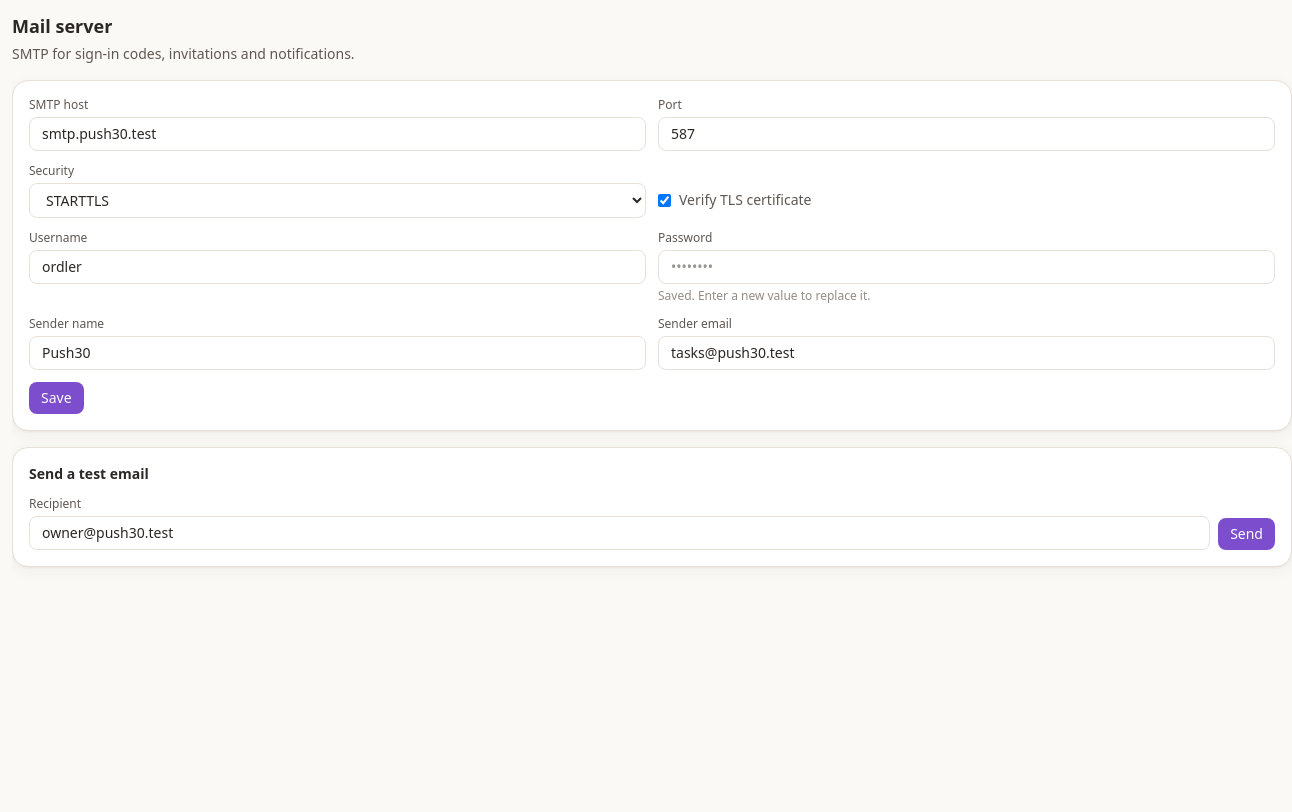
Test case: MailSection › sends a test email and shows the SMTP error when it fails
This screenshot has width=1292, height=812.
Expected: the field labelled "Recipient" holds "owner@push30.test", [29, 516, 1210, 550]
Click the button "Send": point(1247, 534) [1218, 518, 1275, 550]
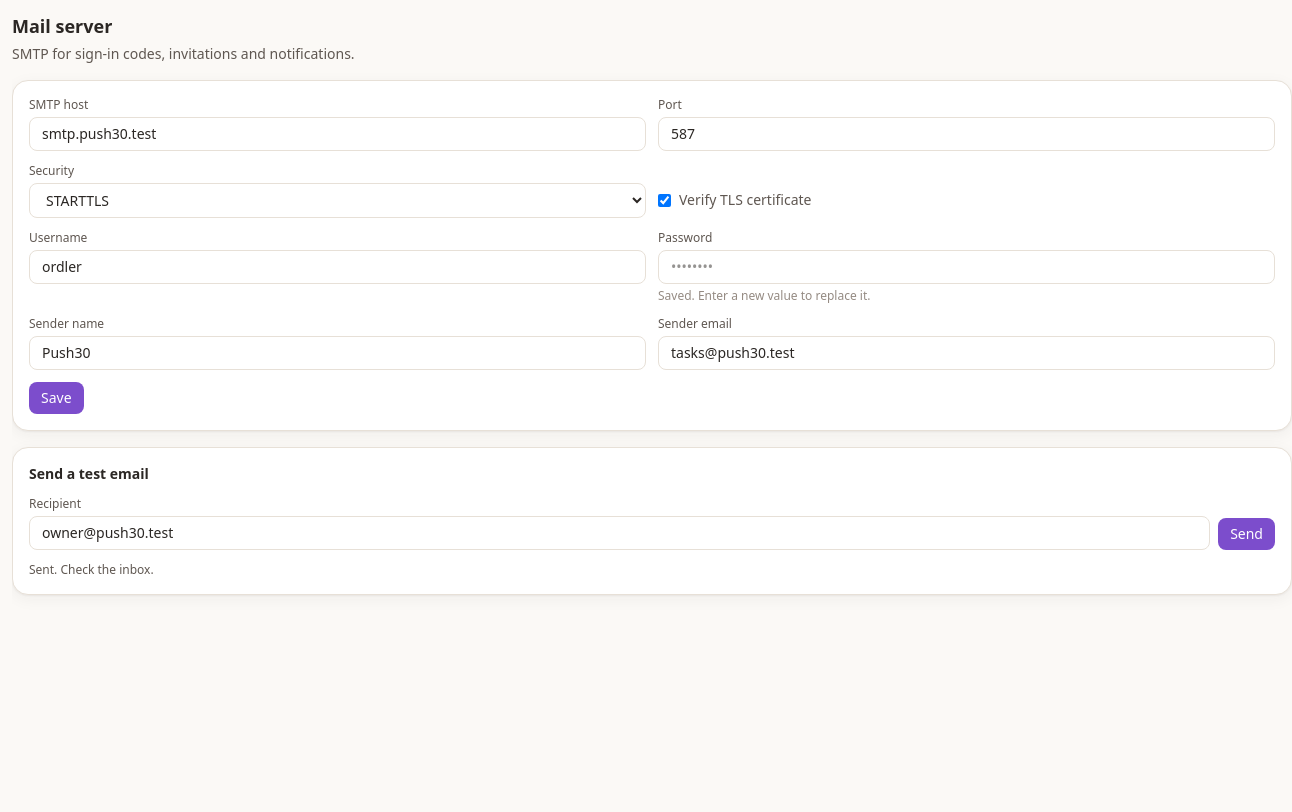
Now the message shows "Sent", box [29, 561, 154, 578]
Click the button "Send": point(1247, 534) [1218, 518, 1275, 550]
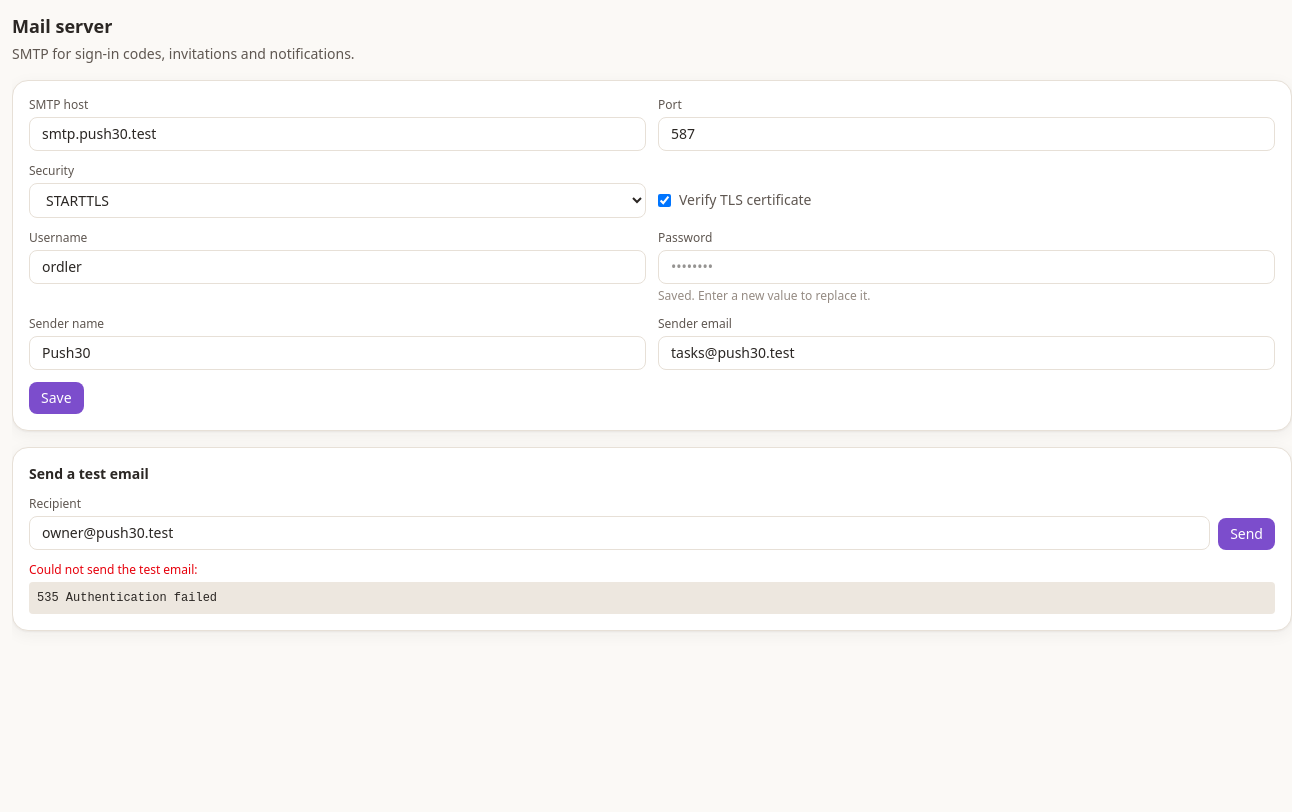
Now the message shows "535 Authentication failed", box [37, 591, 217, 605]
